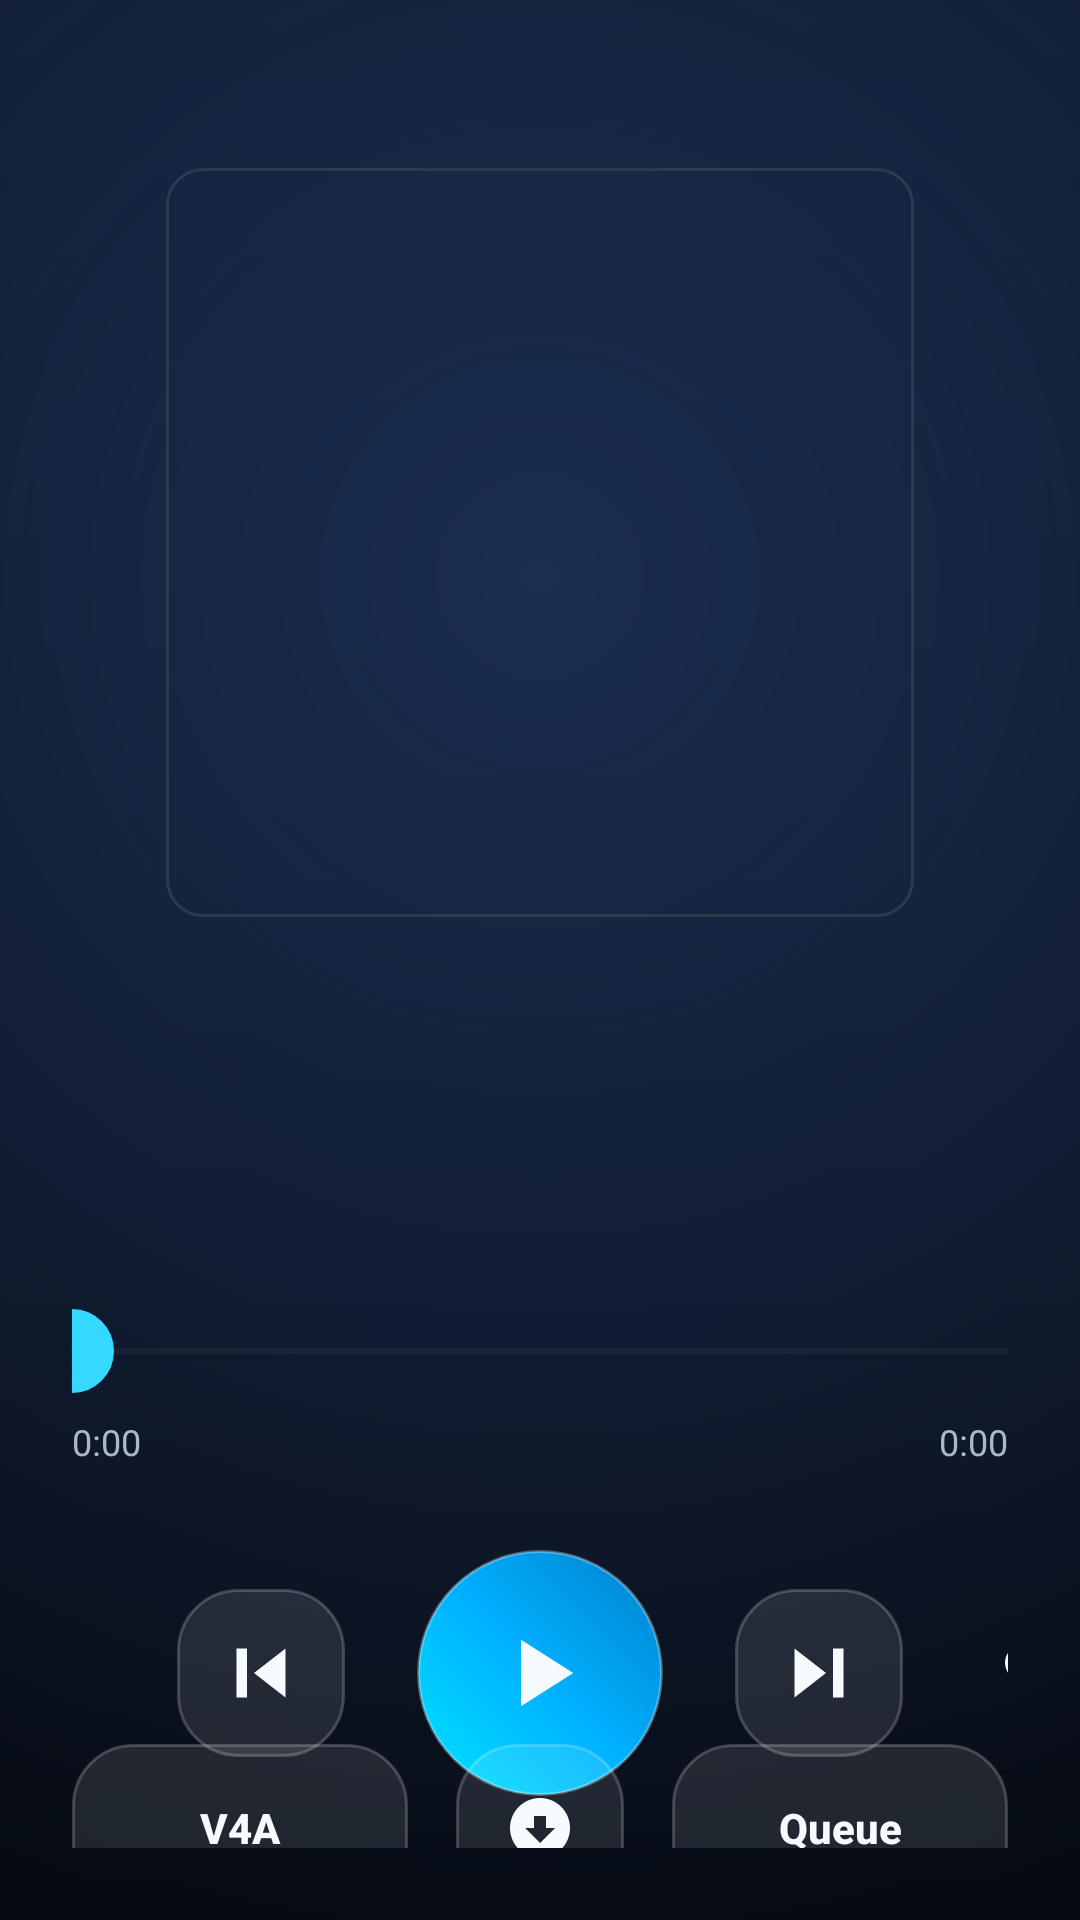

Icon click points for this 1080 x 1920 phone screenshot, format [x,y]:
Next: [819,1673]
Play: [540,1673]
Previous: [261,1673]
